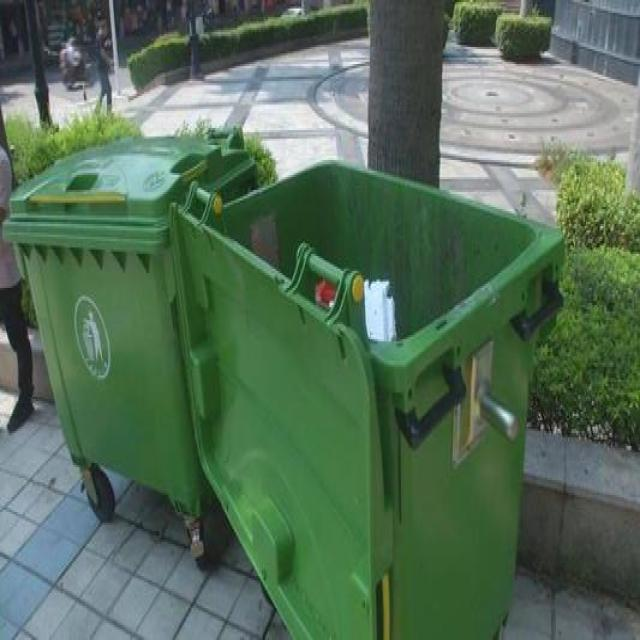garbage_bin: (172, 156, 566, 638), (1, 130, 258, 512)
